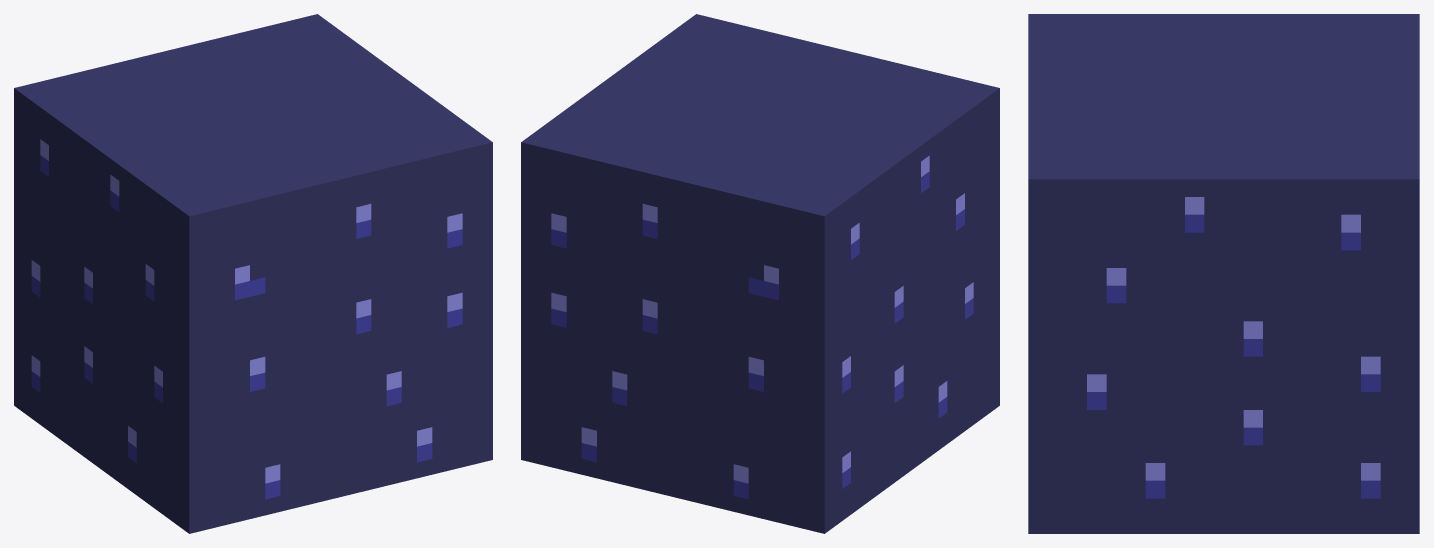
The model's file is tierra cerezo.obj.
The picture shows the model from 3 angles, left to right: view 1: azimuth 30°, elevation 25°; view 2: azimuth 150°, elevation 25°; view 3: azimuth 270°, elevation 25°; orthographic projection. The views are drawn at different scales.
Bounding box in the file's own units: 2 × 2 × 2.
Materials: 1 (1 with a texture image).
